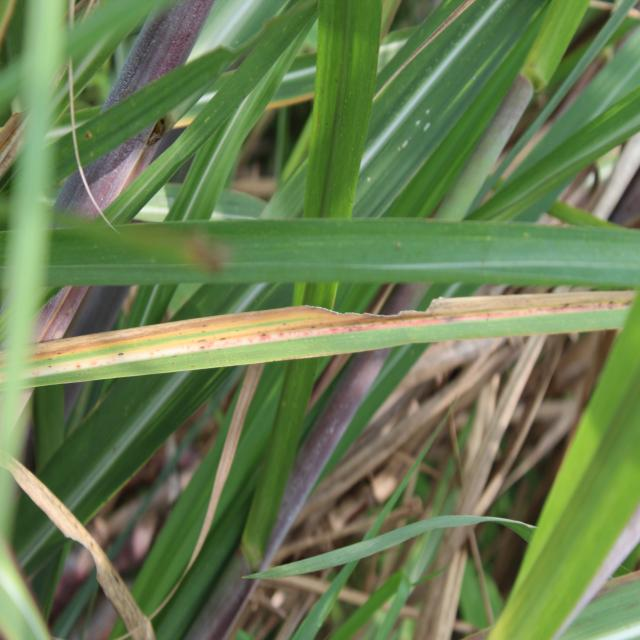Sugarcane: (482, 214, 639, 640), (1, 292, 636, 389), (88, 0, 328, 245), (0, 218, 640, 294), (351, 2, 562, 221), (130, 362, 297, 636), (29, 346, 231, 554), (292, 397, 464, 640), (0, 3, 71, 475), (472, 37, 636, 225), (302, 1, 379, 289), (45, 54, 240, 162), (236, 6, 423, 108), (459, 332, 553, 532), (243, 349, 319, 570), (50, 275, 139, 444), (1, 217, 238, 280), (391, 472, 470, 634), (41, 1, 148, 114), (306, 565, 417, 640), (530, 573, 640, 639), (518, 0, 595, 94), (189, 0, 293, 60), (281, 66, 324, 192), (264, 126, 316, 224), (31, 367, 63, 478), (245, 66, 329, 108), (543, 198, 630, 235), (457, 553, 497, 631), (273, 100, 291, 190)
